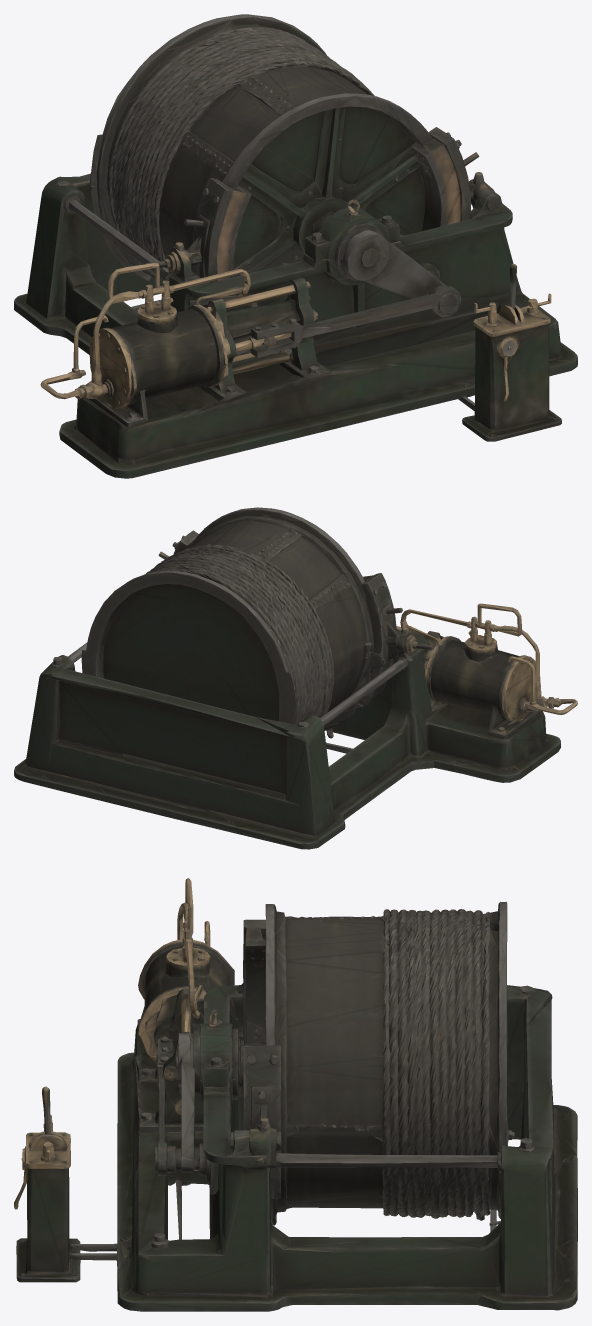
The model's file is winding_drum_engine.glb.
3 renders of one model, top to bottom at view 1: azimuth 30°, elevation 25°; view 2: azimuth 150°, elevation 25°; view 3: azimuth 270°, elevation 25°, orthographic. The views are drawn at different scales.
Parts seen in each view (by area): view 1: main; view 2: main; view 3: main.
Part boxes in pixels (x1=…): main: x1=14, y1=14, x2=577, y2=478; main: x1=14, y1=507, x2=577, y2=849; main: x1=14, y1=878, x2=577, y2=1311.
Bounding box in the file's own units: 5.04 × 2.6 × 4.42.
1 material, 1 textured.
